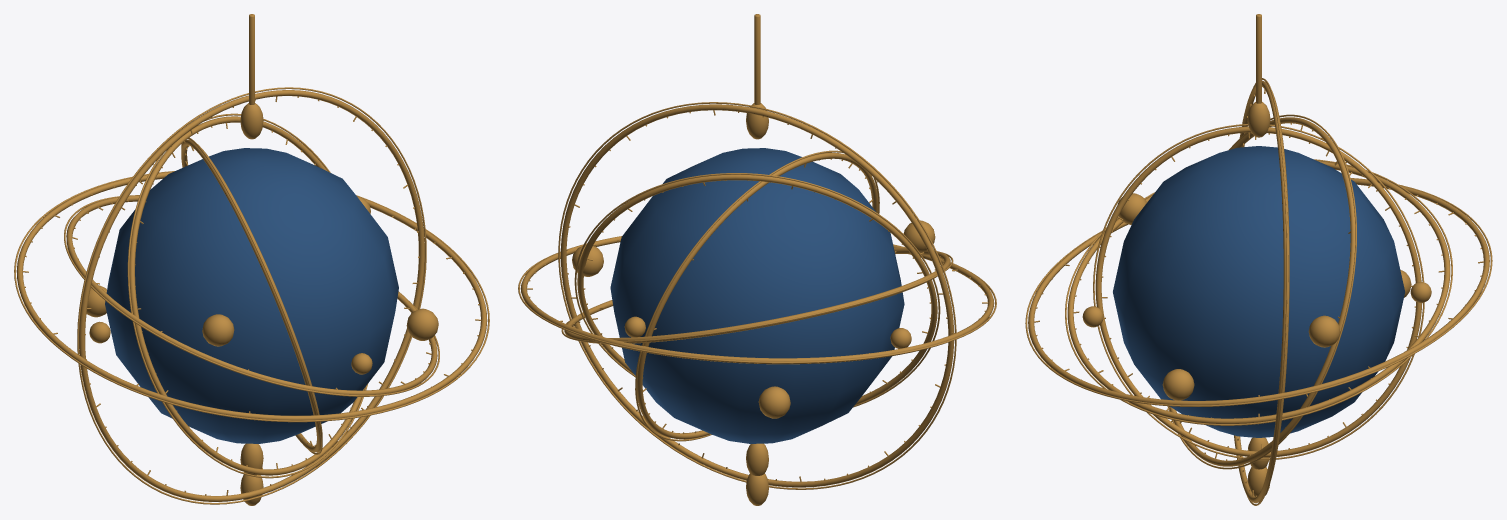
Rendered from celestial-armillary.glb.
3 renders of one model, left to right at view 1: azimuth 30°, elevation 25°; view 2: azimuth 150°, elevation 25°; view 3: azimuth 270°, elevation 25°, orthographic.
Parts seen in each view (by area): view 1: Armillary__Celestial glass, Armillary__Brushed antique brass; view 2: Armillary__Celestial glass, Armillary__Brushed antique brass; view 3: Armillary__Celestial glass, Armillary__Brushed antique brass.
Boxes of the visible parts, left/top/right/bottom form: Armillary__Celestial glass: left=105, top=148, right=398, bottom=443; Armillary__Brushed antique brass: left=14, top=14, right=489, bottom=505; Armillary__Celestial glass: left=610, top=148, right=904, bottom=443; Armillary__Brushed antique brass: left=518, top=14, right=996, bottom=505; Armillary__Celestial glass: left=1113, top=146, right=1404, bottom=437; Armillary__Brushed antique brass: left=1025, top=14, right=1492, bottom=505.
Size of the model in its own units: 5.32 by 6.02 by 5.27.
